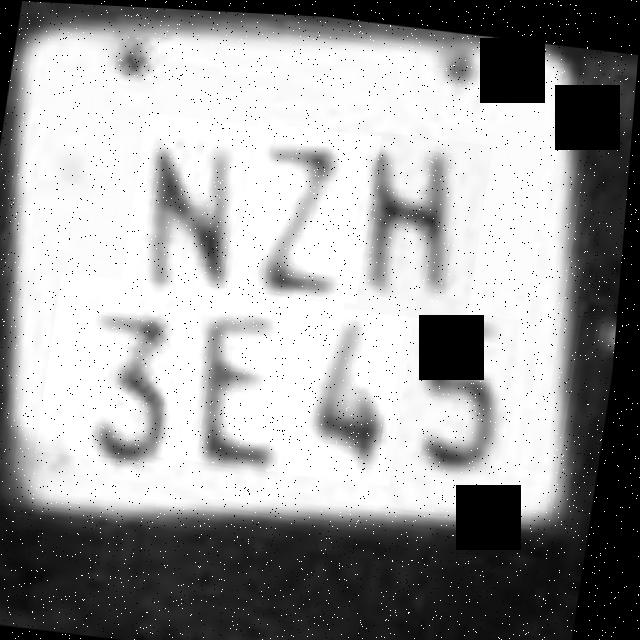3: (41, 270, 205, 466)
4: (273, 284, 422, 481)
5: (389, 301, 524, 486)
E: (162, 279, 314, 469)
H: (347, 126, 495, 319)
N: (124, 110, 276, 297)
Z: (236, 118, 384, 300)
